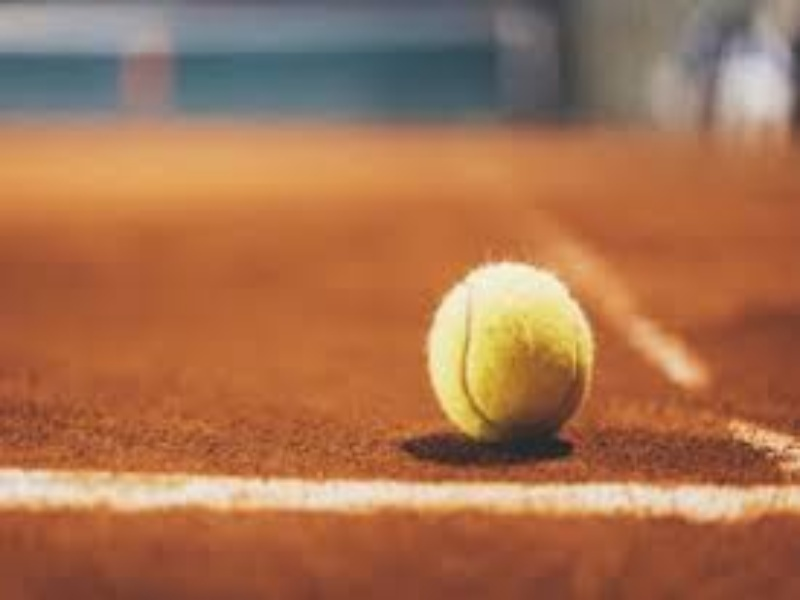tennis ball: (415, 231, 618, 456)
